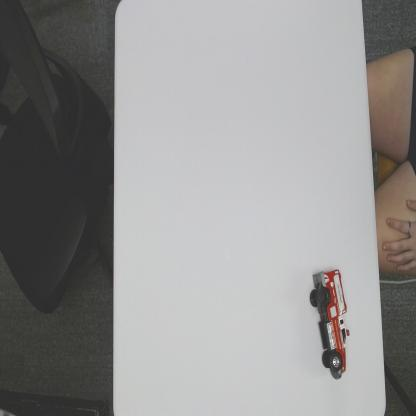Firetruck: (309, 267, 352, 382)
